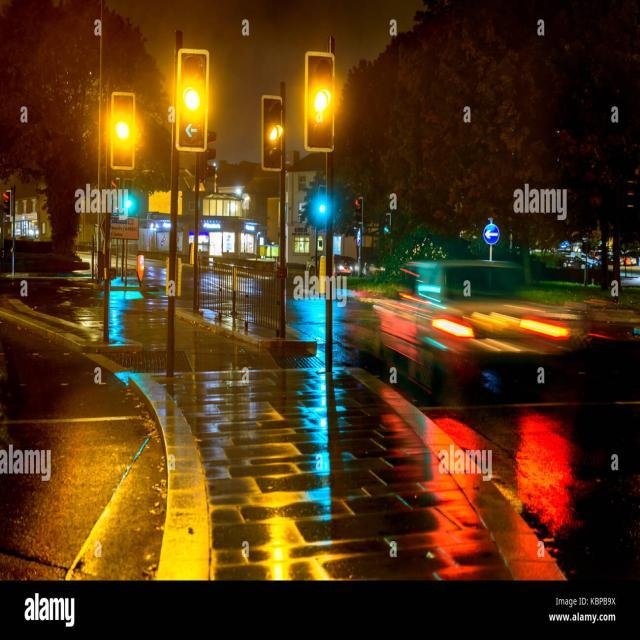Green: (317, 186, 327, 220)
Red: (2, 186, 10, 220), (354, 196, 362, 227)
Yellow: (176, 47, 205, 154), (307, 54, 333, 150), (111, 94, 134, 170), (263, 102, 284, 169)
